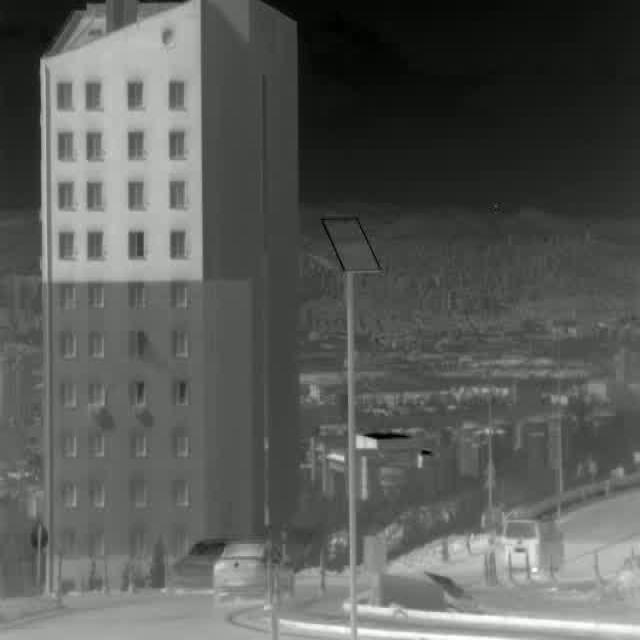Car: (214, 539, 297, 601), (162, 535, 241, 589), (501, 514, 566, 573)
